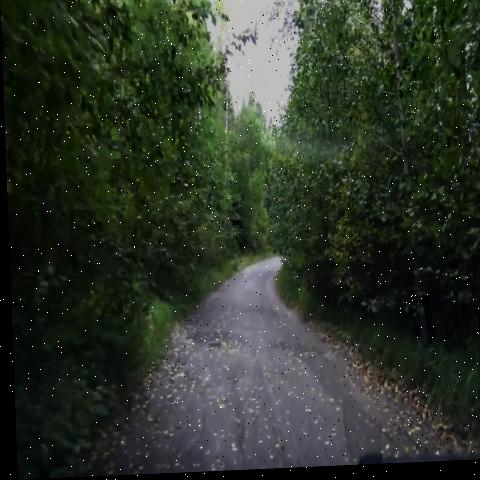pothole: (182, 315, 245, 366), (265, 324, 311, 375), (233, 298, 275, 328)
